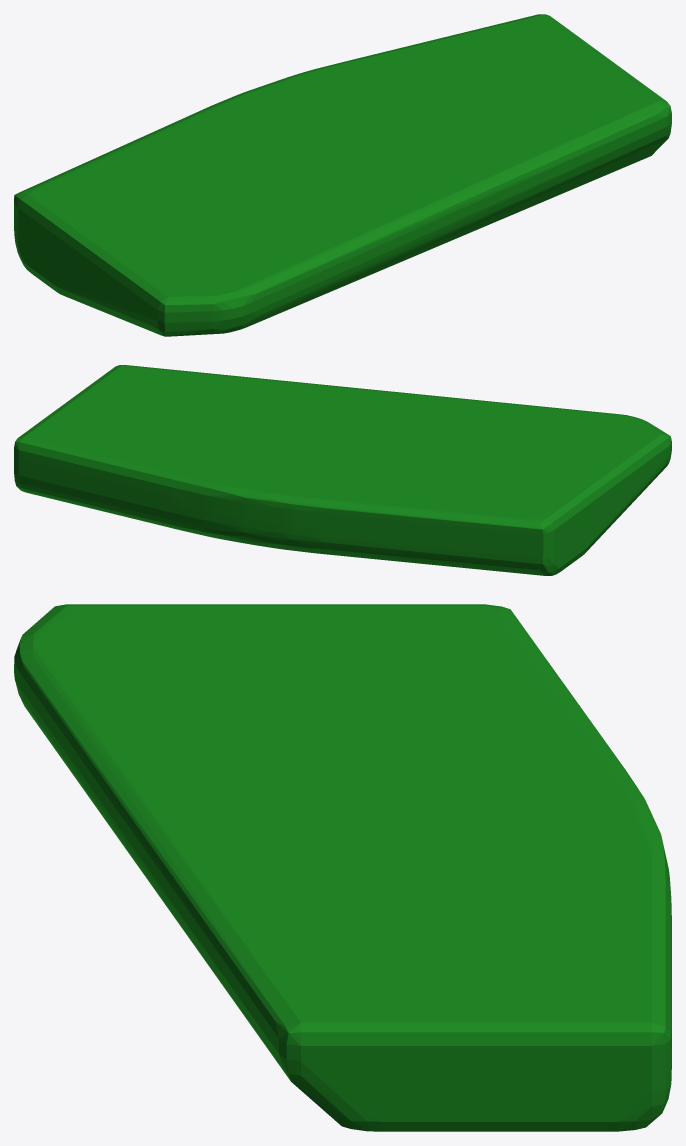
The model's file is left_ankle_link_part_8.obj.
3 renders of one model, top to bottom at view 1: azimuth 30°, elevation 25°; view 2: azimuth 150°, elevation 25°; view 3: azimuth 270°, elevation 25°, orthographic. The views are drawn at different scales.
Bounding box in the file's own units: 0.0764 × 0.00887 × 0.0492.
